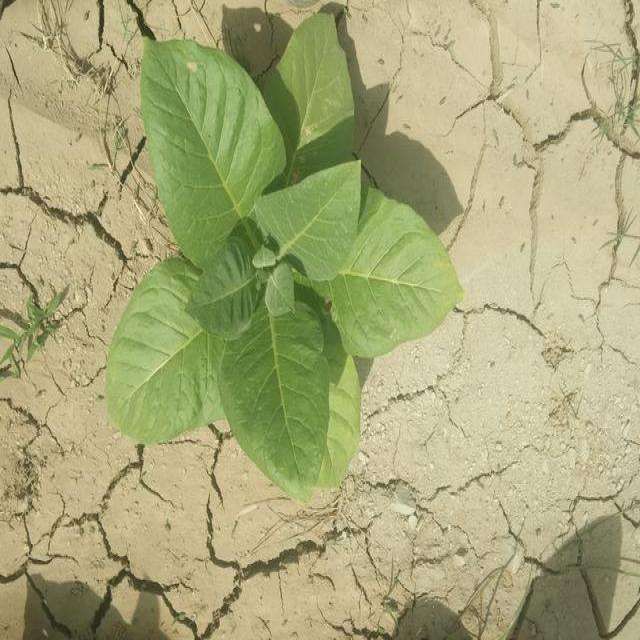crop: (110, 22, 459, 477)
